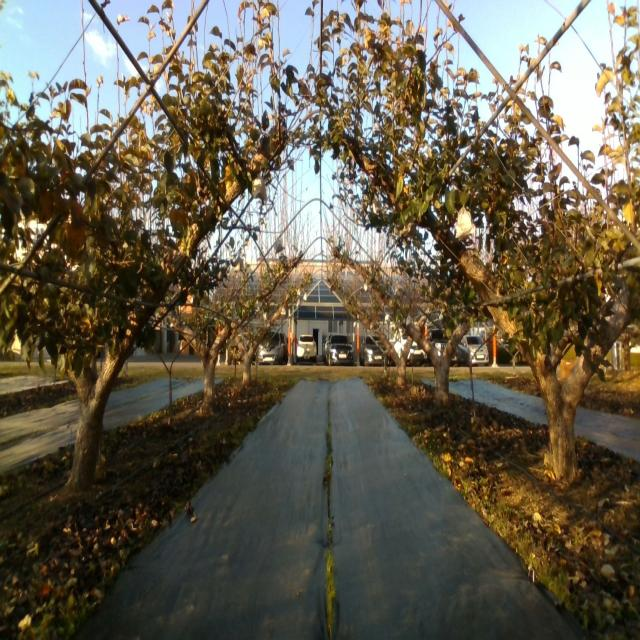pearbags: (455, 206, 476, 240), (252, 176, 267, 202)
